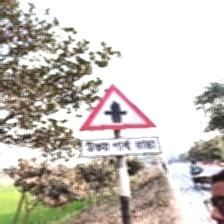Crossroad: (78, 84, 162, 160)
